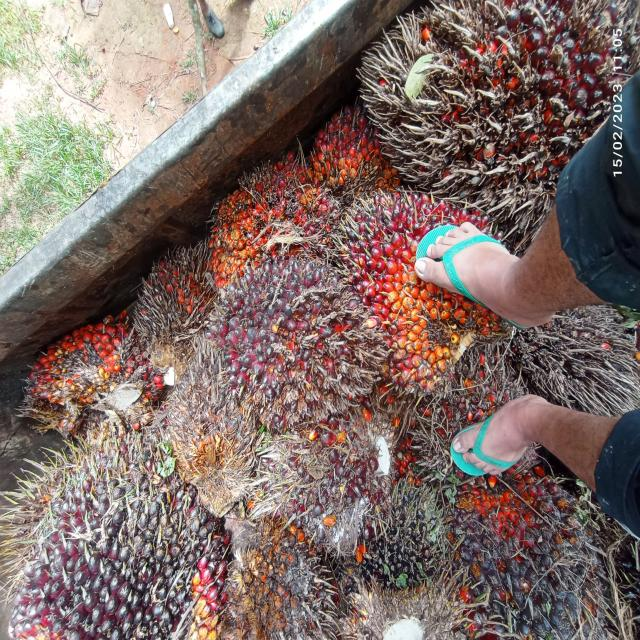fraksi 00: (0, 447, 237, 640), (346, 464, 449, 622)
fraksi 1: (207, 232, 399, 470), (240, 388, 407, 554)
fraksi 4: (202, 124, 346, 336), (20, 286, 148, 471), (292, 85, 382, 221)
